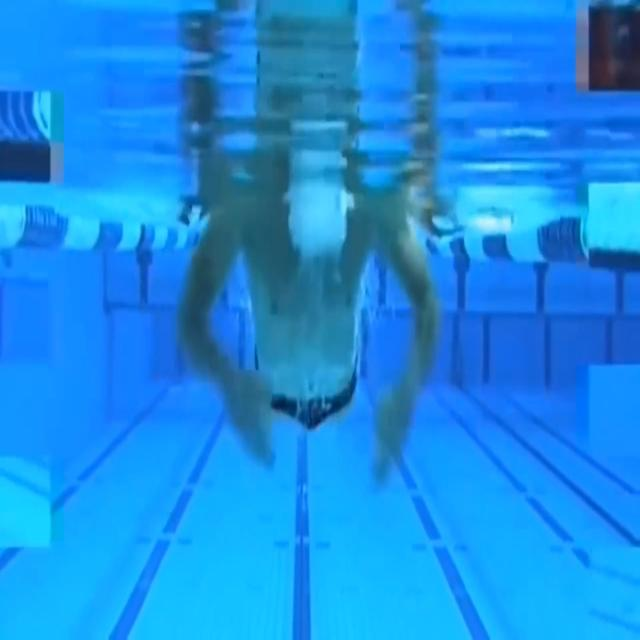Swimming: (178, 197, 440, 486)
